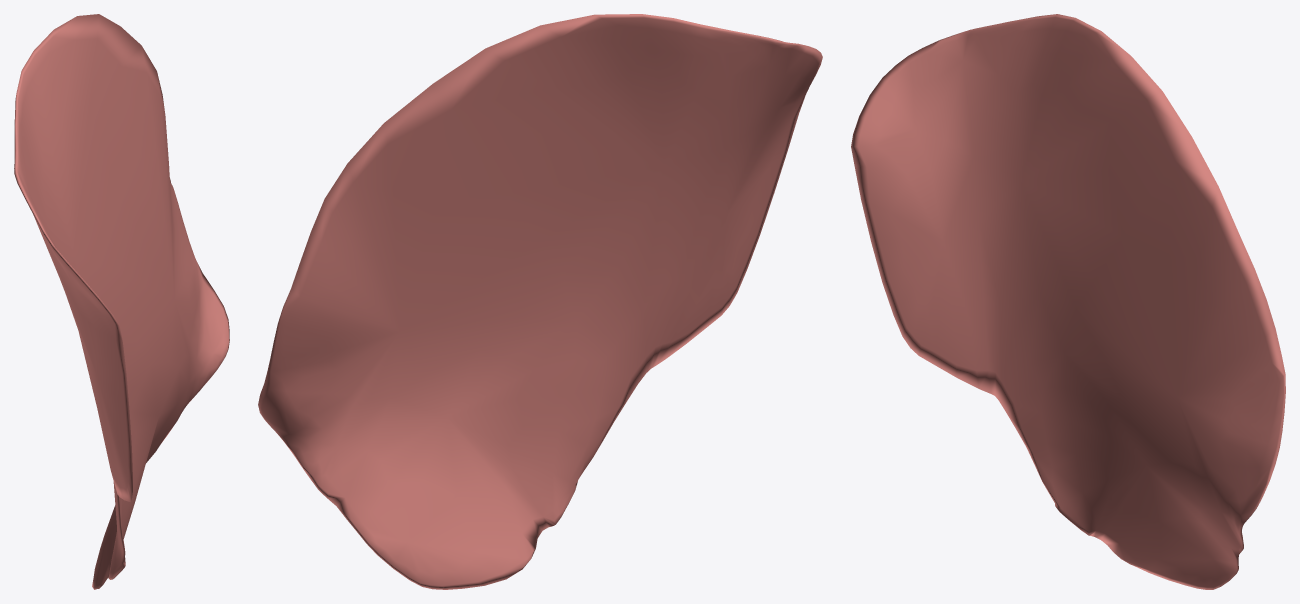
3 renders of one model, left to right at view 1: azimuth 30°, elevation 25°; view 2: azimuth 150°, elevation 25°; view 3: azimuth 270°, elevation 25°, orthographic. The views are drawn at different scales.
Parts seen in each view (by area): view 1: ZA_d971f12d9379c89a; view 2: ZA_d971f12d9379c89a; view 3: ZA_d971f12d9379c89a.
Boxes of the visible parts, box(x1,y1,x2,y2) form: ZA_d971f12d9379c89a: box(14, 14, 229, 589); ZA_d971f12d9379c89a: box(258, 14, 822, 589); ZA_d971f12d9379c89a: box(851, 14, 1285, 589).
Size of the model in its own units: 0.0531 by 0.078 by 0.0596.
